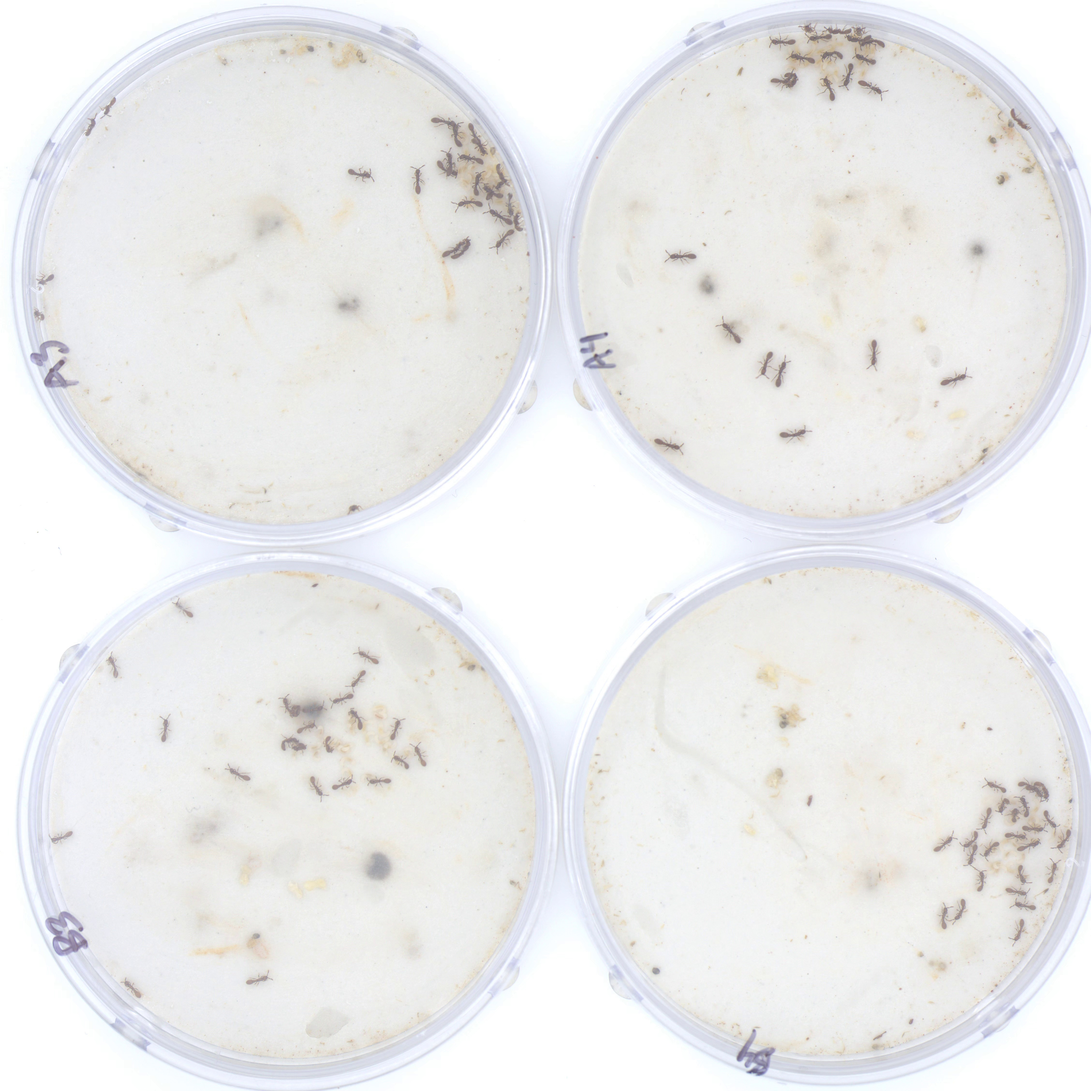brood: (450, 125, 520, 220), (784, 31, 850, 88), (982, 832, 1040, 877), (346, 704, 389, 737), (850, 32, 878, 80), (365, 724, 398, 757), (1003, 795, 1030, 829), (323, 736, 353, 755), (1026, 815, 1044, 835), (306, 742, 321, 761), (290, 746, 306, 761), (313, 723, 325, 739), (1031, 796, 1041, 814), (1056, 833, 1065, 850), (361, 773, 380, 781), (1048, 828, 1057, 844), (340, 757, 355, 766), (342, 767, 354, 778)
